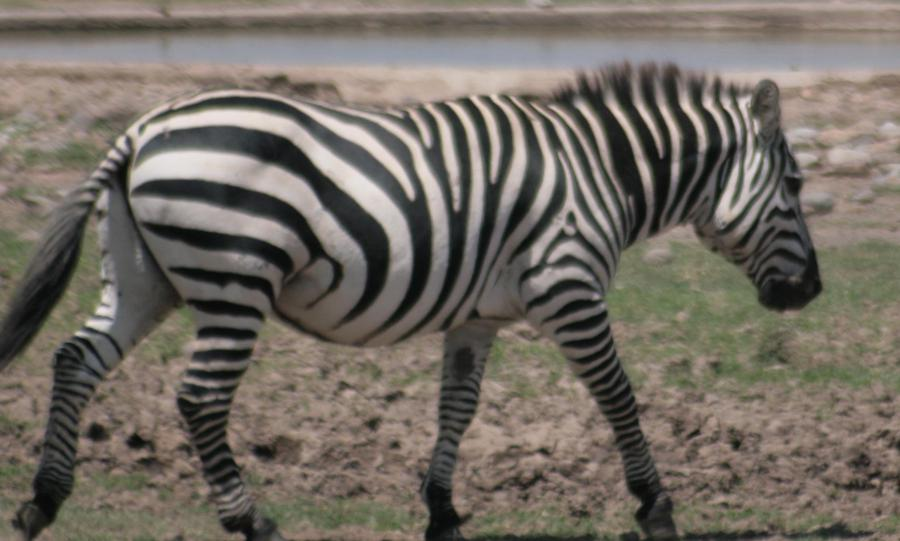zebra_plains: (154, 64, 605, 366)
